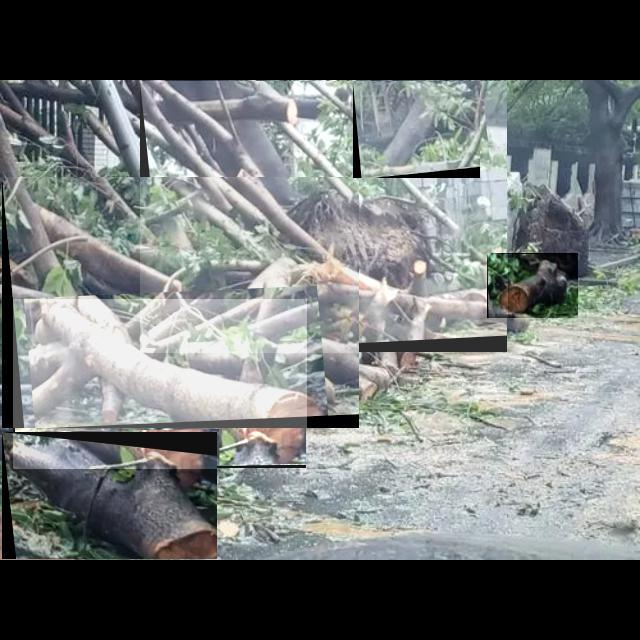fallen_tree: (140, 81, 508, 353), (2, 177, 360, 429), (13, 299, 307, 469), (2, 432, 218, 560), (353, 81, 481, 179), (487, 253, 579, 319)
